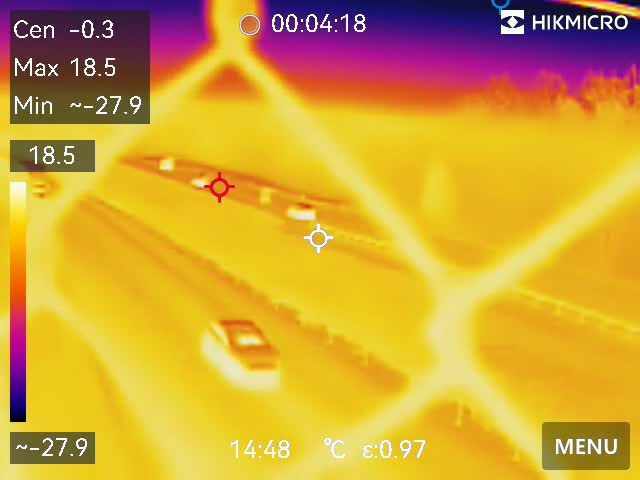smallCar: (204, 308, 284, 378)
vehicle: (286, 200, 319, 225), (188, 177, 213, 189)
